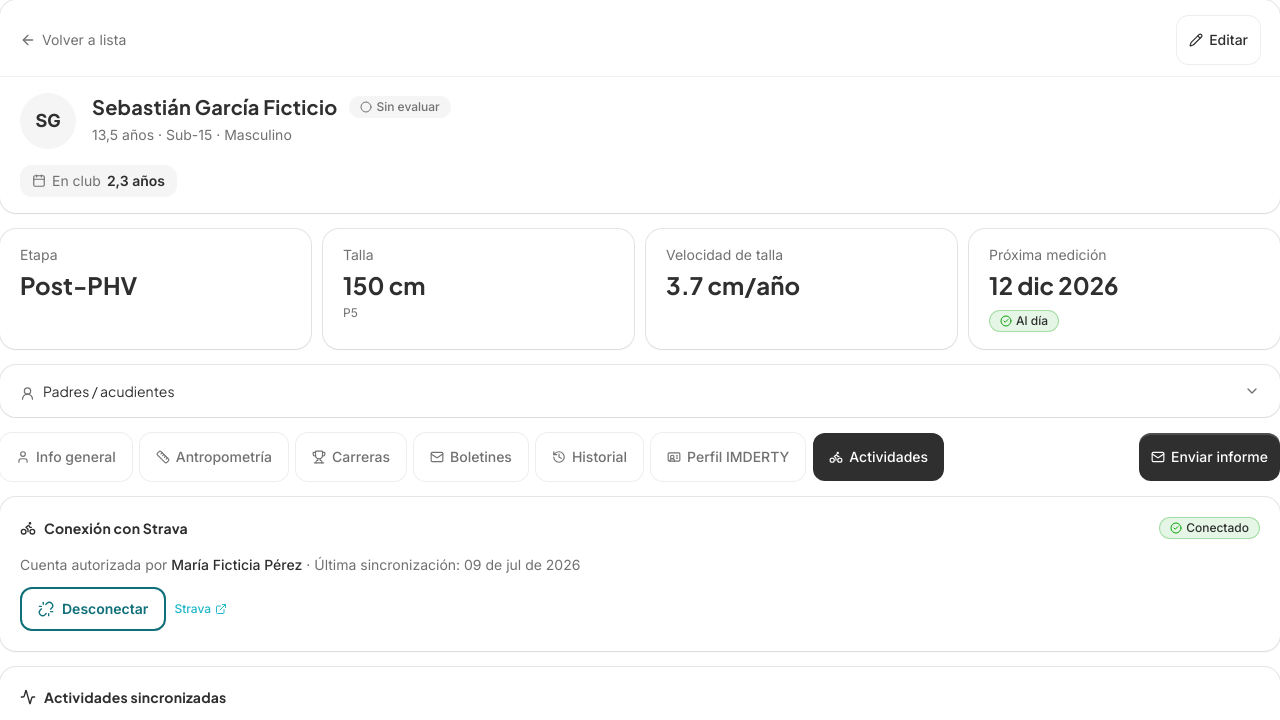
Test: AthleteDetailPage — tarjeta de conexión Strava › flujo de desconexión › pide confirmación antes de desconectar y actualiza el badge tras confirmar
Click the button "Desconectar". click: (93, 609)
box: [20,587,166,631]
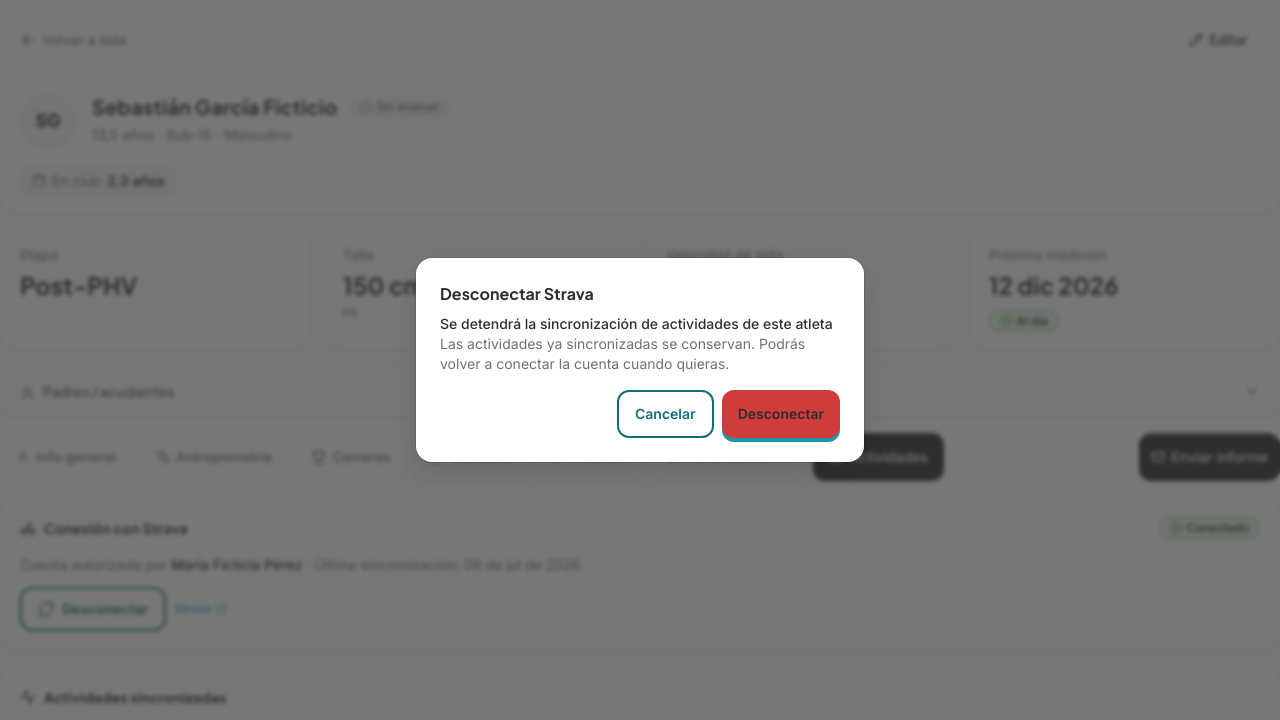
Expected: the heading "Desconectar Strava" is shown, [440,283,594,304]
Click the button "Desconectar". click: (781, 414)
box: [722,390,840,438]
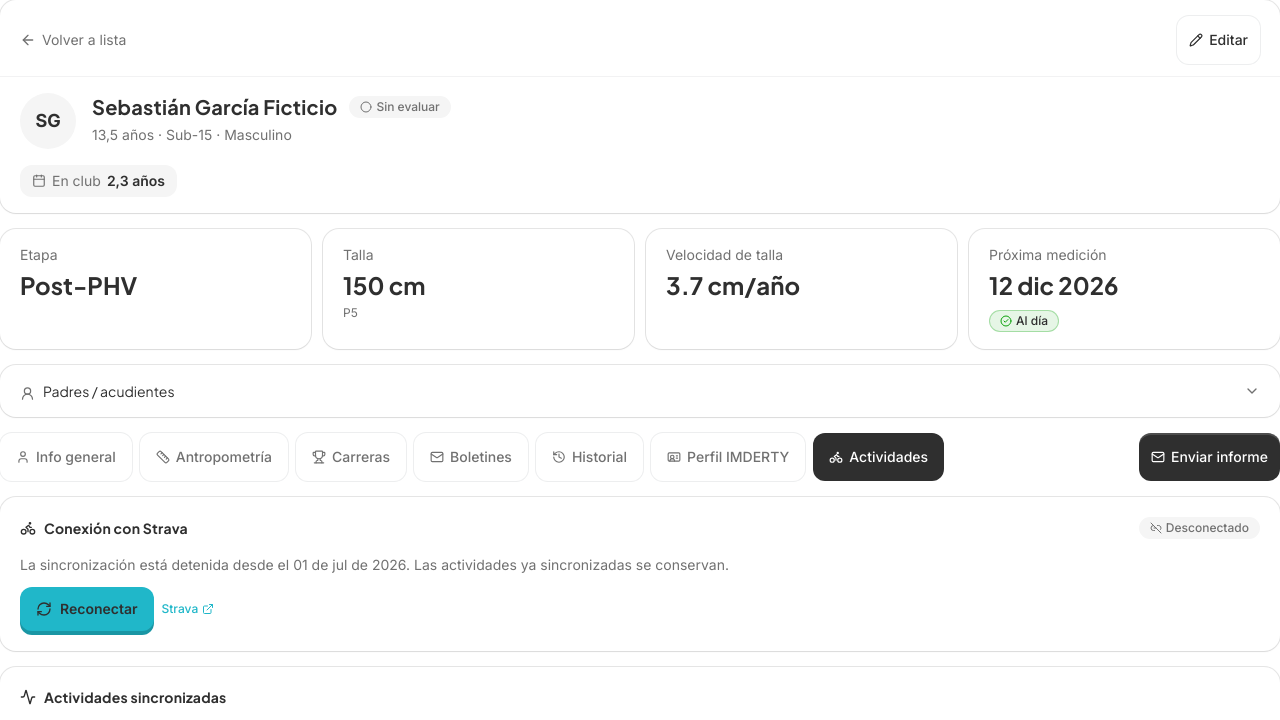
Expected: the text "Desconectado" is shown, [1139,517,1260,539]
Expected: the dialog is gone
